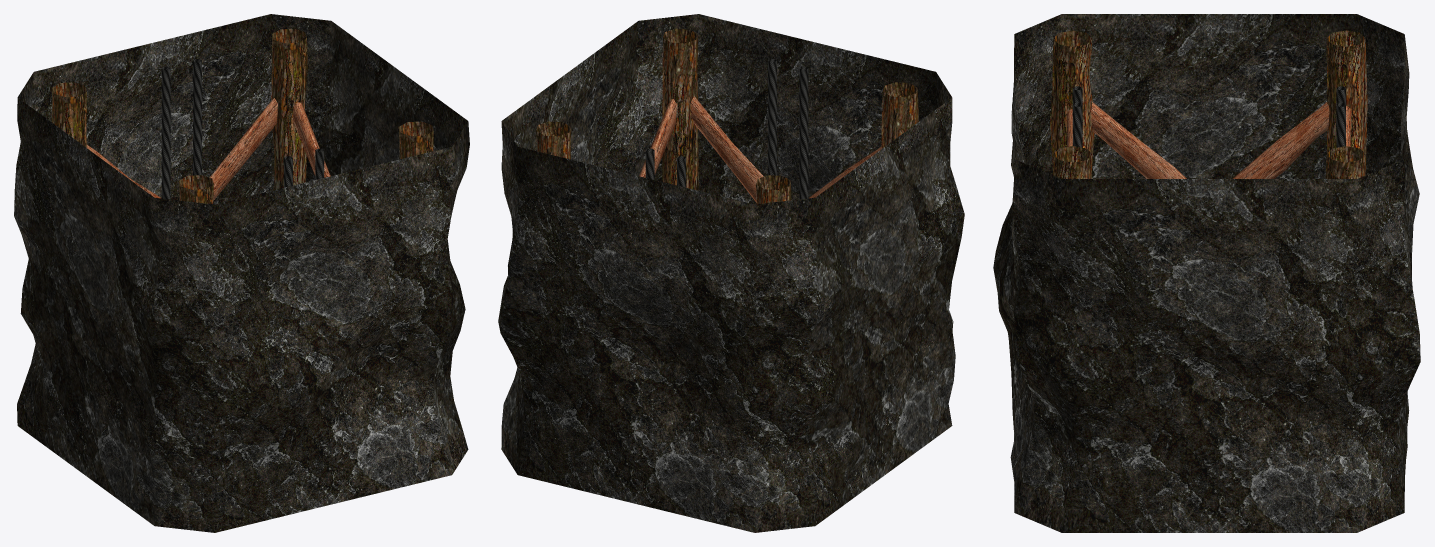
The model's file is Cave_076.fbx.
The picture shows the model from 3 angles, left to right: view 1: azimuth 30°, elevation 25°; view 2: azimuth 150°, elevation 25°; view 3: azimuth 270°, elevation 25°; orthographic projection. The views are drawn at different scales.
Parts seen in each view (by area): view 1: Cave.076; view 2: Cave.076; view 3: Cave.076.
Boxes of the visible parts, x1,y1,x2,y2 form: Cave.076: (14,14,469,532); Cave.076: (498,14,964,532); Cave.076: (993,14,1420,532).
Bounding box in the file's own units: 313 × 300 × 328.
